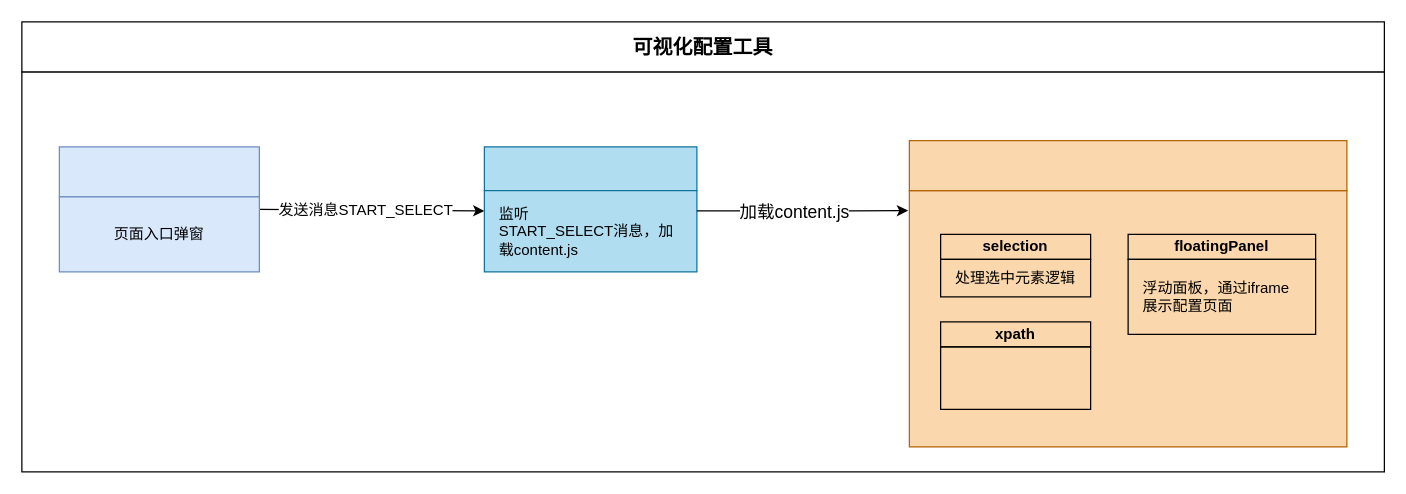
Image size: 1406x494. Some labels were removed from this diagram. Each missing label, with the centre of its shape:
"background.js" belongs at (590,168).
"content.js" belongs at (1127,165).
"popup.js" belongs at (158,171).
"生成元素xpath，与sdk保持一致" belongs at (1015,377).
